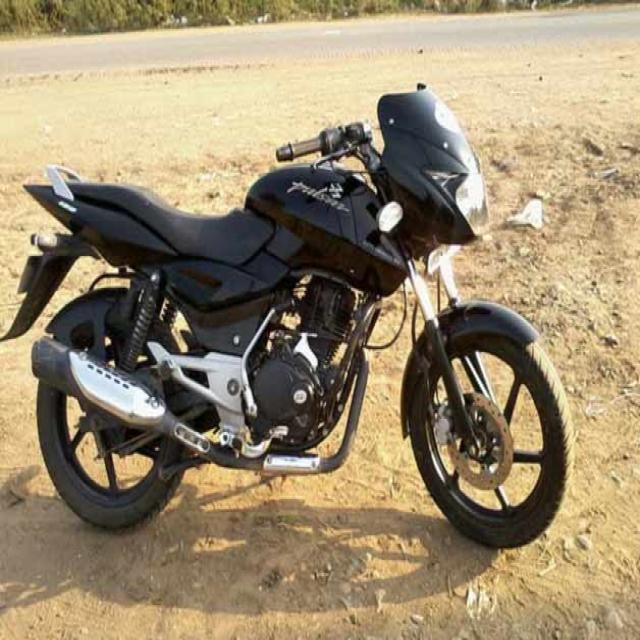motorcycle: (3, 87, 572, 547)
